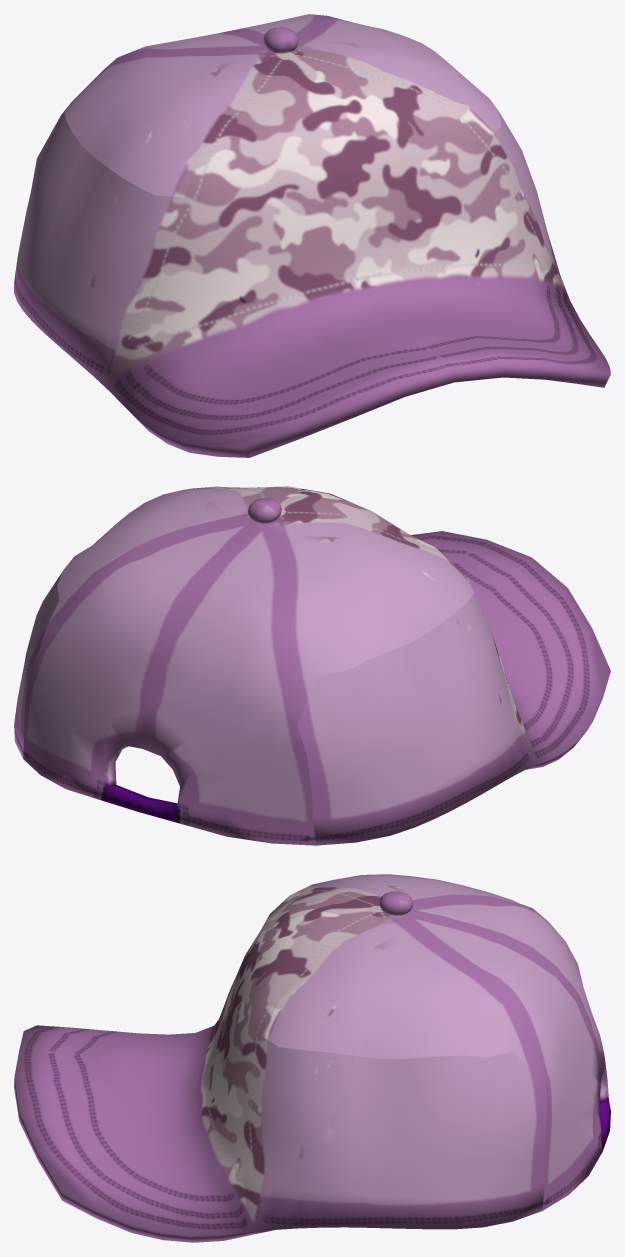
File: Pink_Camo.glb
3 views of the same model, one above another, from view 1: azimuth 30°, elevation 25°; view 2: azimuth 150°, elevation 25°; view 3: azimuth 270°, elevation 25° (orthographic). The views are drawn at different scales.
Visible parts, largest first — view 1: Pink_Camo; view 2: Pink_Camo; view 3: Pink_Camo.
Boxes of the visible parts, bbox=[...] form: Pink_Camo: bbox=[14, 14, 610, 457]; Pink_Camo: bbox=[14, 486, 610, 845]; Pink_Camo: bbox=[14, 874, 610, 1242].
Size of the model in its own units: 1.06 by 0.6087 by 1.25.
Materials: 1 (1 with a texture image).
